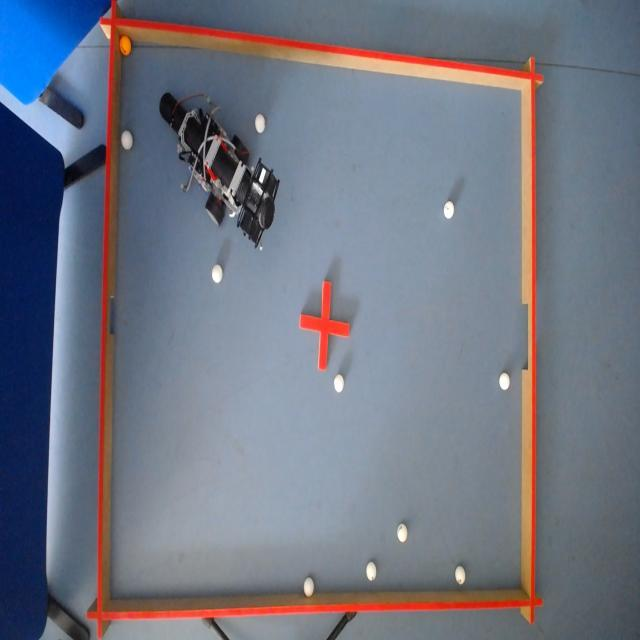robot: (156, 92, 277, 244)
white: (453, 565, 466, 589), (397, 521, 410, 543), (120, 128, 132, 150), (443, 199, 456, 219), (498, 372, 511, 391), (365, 562, 377, 582), (303, 576, 314, 596), (334, 372, 344, 392), (256, 114, 266, 133), (213, 264, 223, 282), (121, 37, 130, 56)
